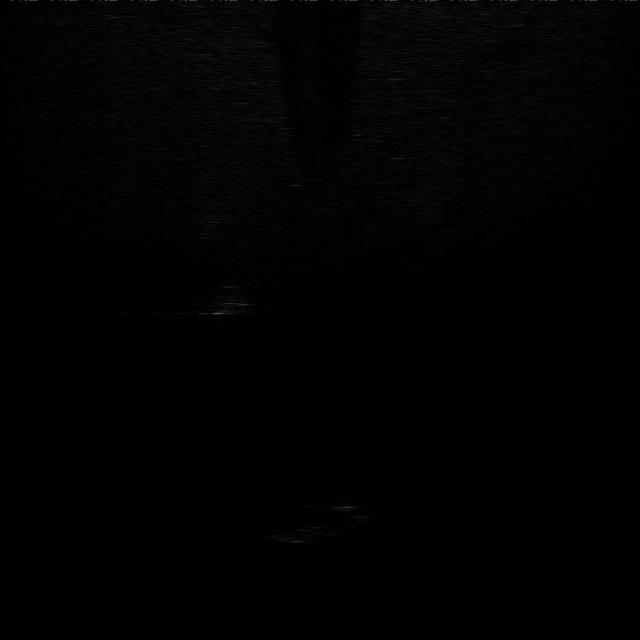ball: (188, 196, 238, 229)
circle cage: (195, 281, 257, 320)
tyre: (241, 494, 381, 552)
